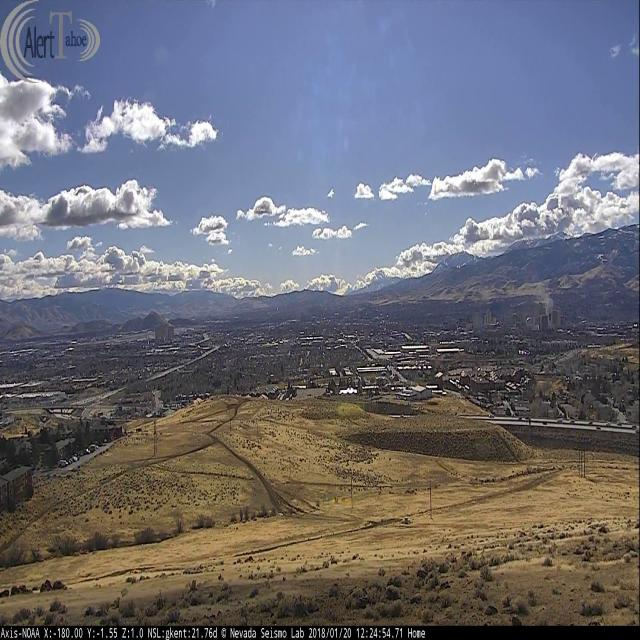smoke: (530, 279, 559, 329)
